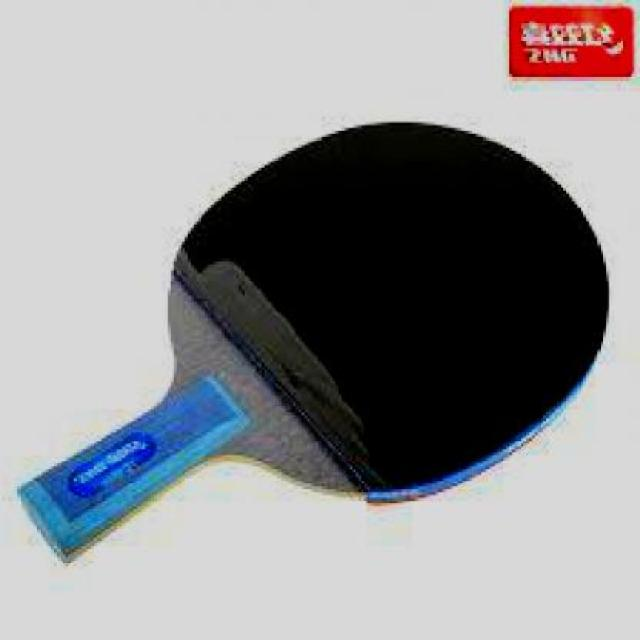table_tennis_racket: (163, 118, 609, 497)
